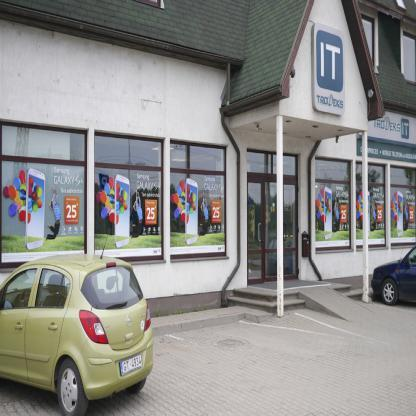car: (0, 235, 153, 415), (372, 247, 416, 304)
